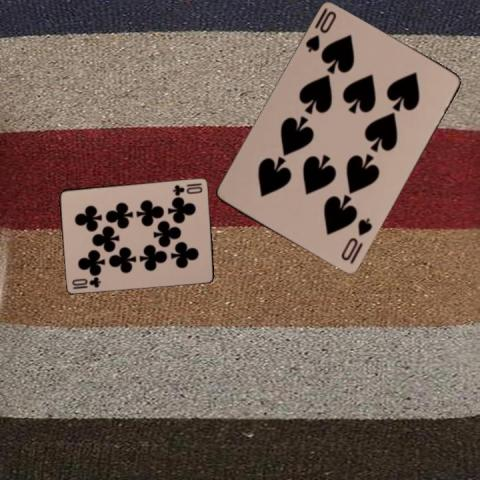10c: (170, 180, 204, 197), (69, 274, 103, 290)
10s: (338, 216, 374, 263), (302, 8, 338, 54)
